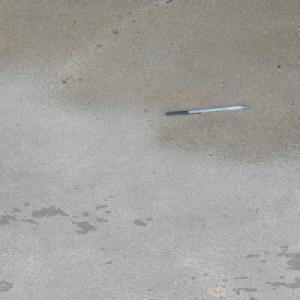Pen: (164, 104, 249, 116)
